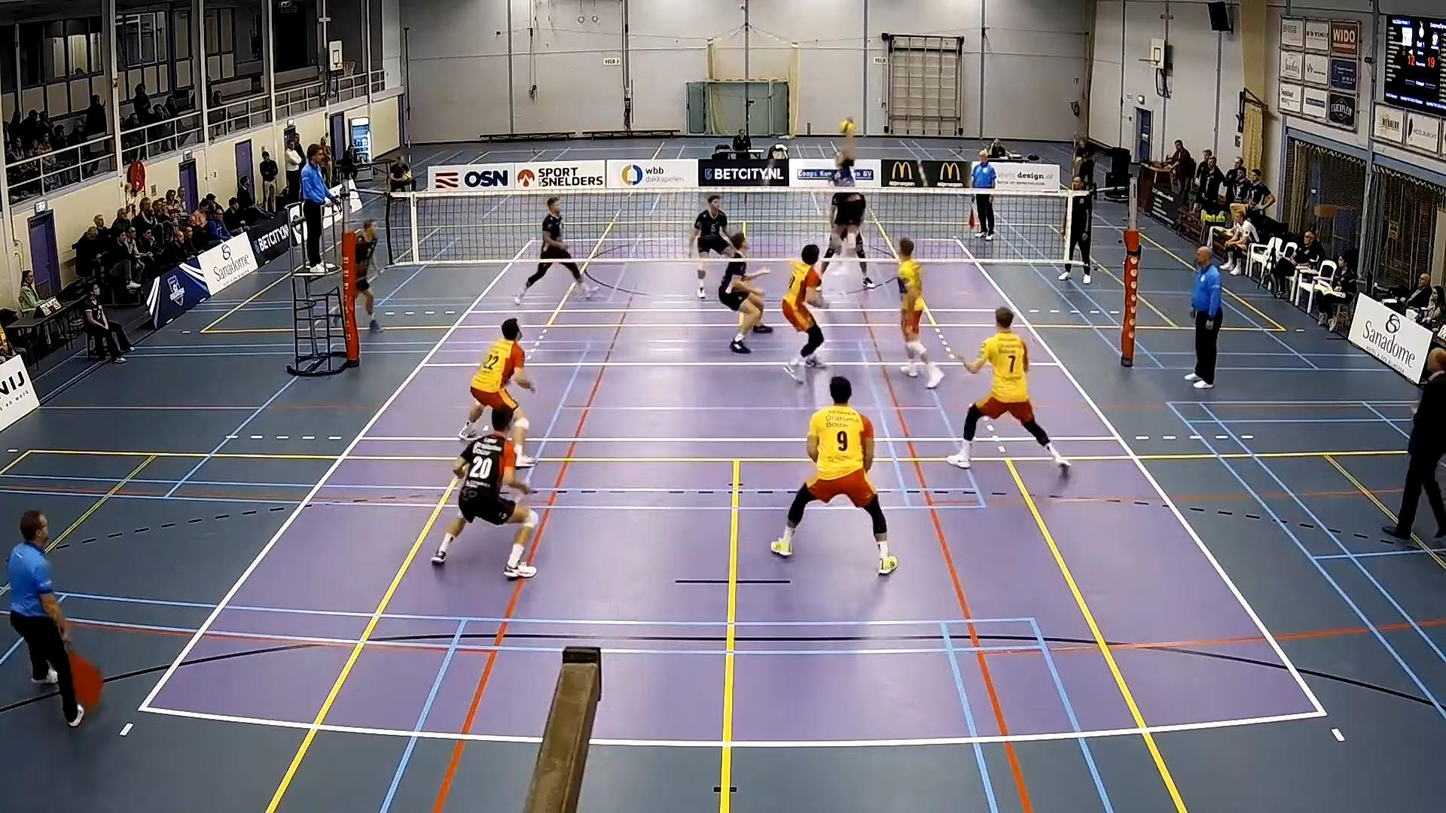attacco: (823, 113, 864, 280)
